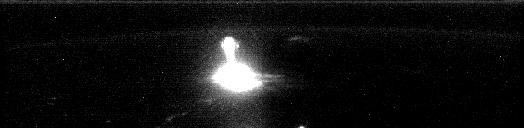positive: (217, 32, 239, 65)
